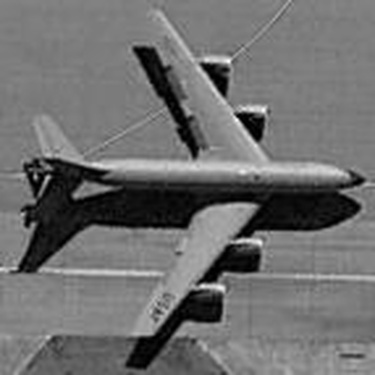airplane: (9, 8, 369, 360)
